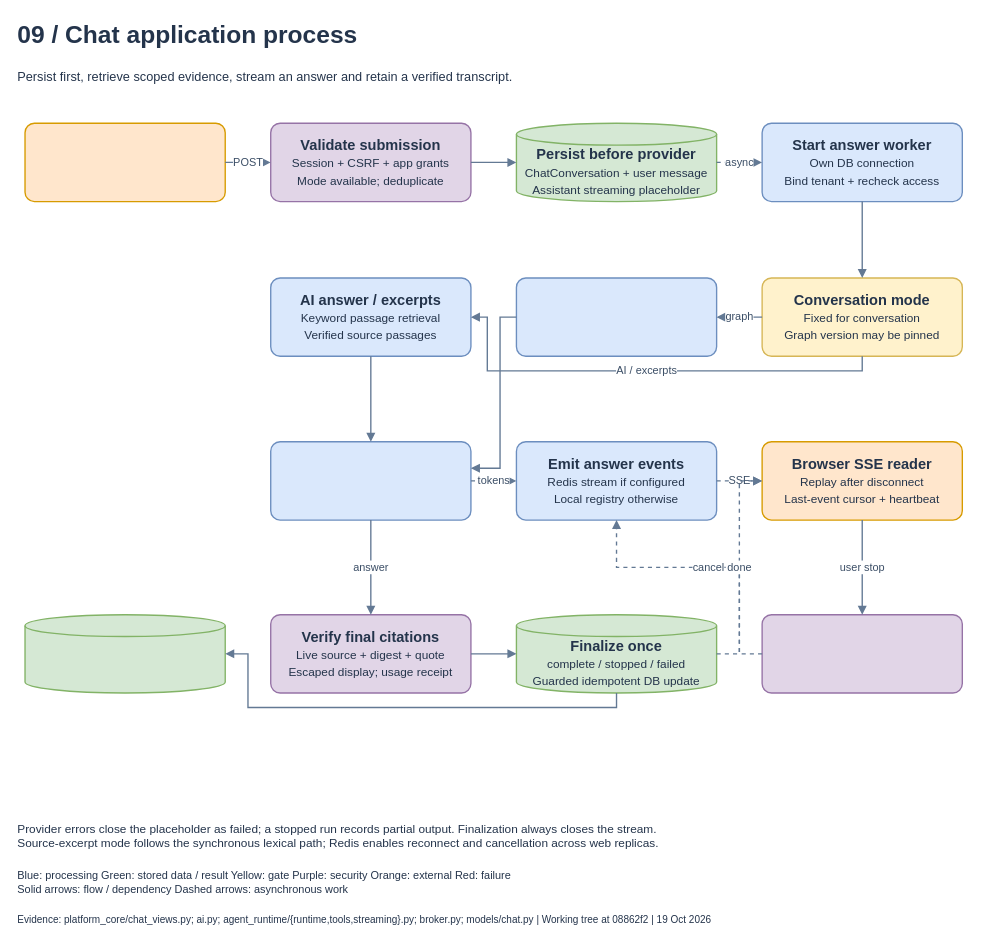
Some shapes in this 986 by 945 pixel diagram are drawn without their labels. Here are the shapes that lost their labels. From the top down, the centre of each, then its label:
At (124,162): "Browser conversation Create / resume own chat Select mode when created".
At (616,317): "Graph answer Published graph retrieval Verified graph citations".
At (370,480): "Model + scoped tools Claude / OpenAI; budgeted Excerpts mode needs no model".
At (124,653): "Saved transcript Owned by app + user Edit, regenerate, retention".
At (862,653): "Stop request Recheck access; signal producer Redis across replicas".
